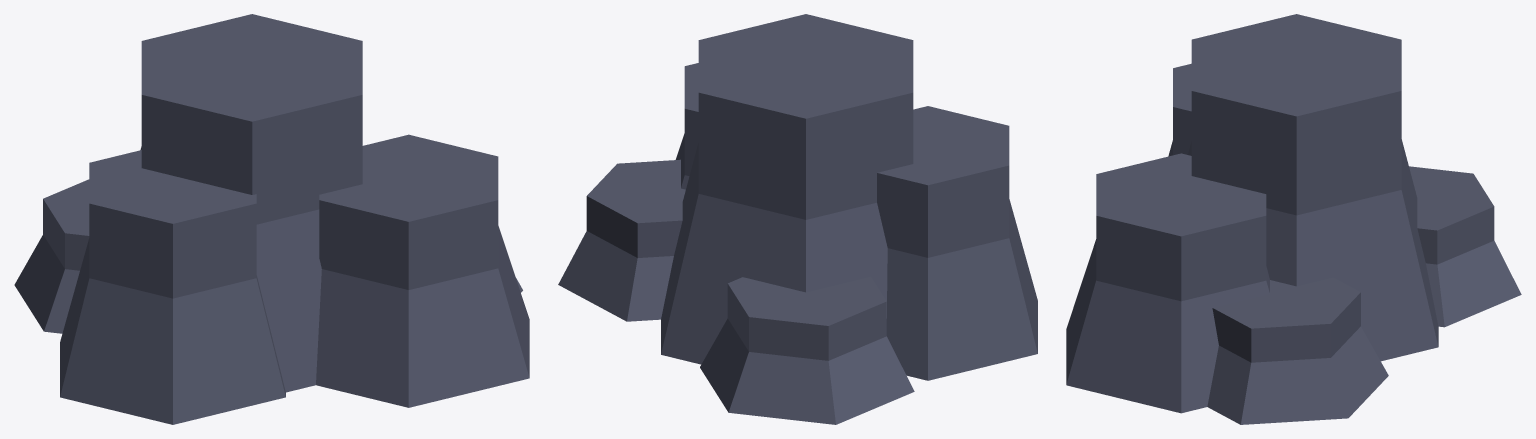
The model's file is rock_largeA.glb.
3 views of the same model, side by side, from view 1: azimuth 30°, elevation 25°; view 2: azimuth 150°, elevation 25°; view 3: azimuth 270°, elevation 25° (orthographic). The views are drawn at different scales.
Visible parts, largest first — view 1: rock_largeA; view 2: rock_largeA; view 3: rock_largeA.
Part boxes in pixels (x1=…): rock_largeA: x1=14, y1=14, x2=529, y2=424; rock_largeA: x1=558, y1=14, x2=1037, y2=424; rock_largeA: x1=1066, y1=14, x2=1521, y2=424.
Bounding box in the file's own units: 0.9193 × 0.5 × 0.8339.
